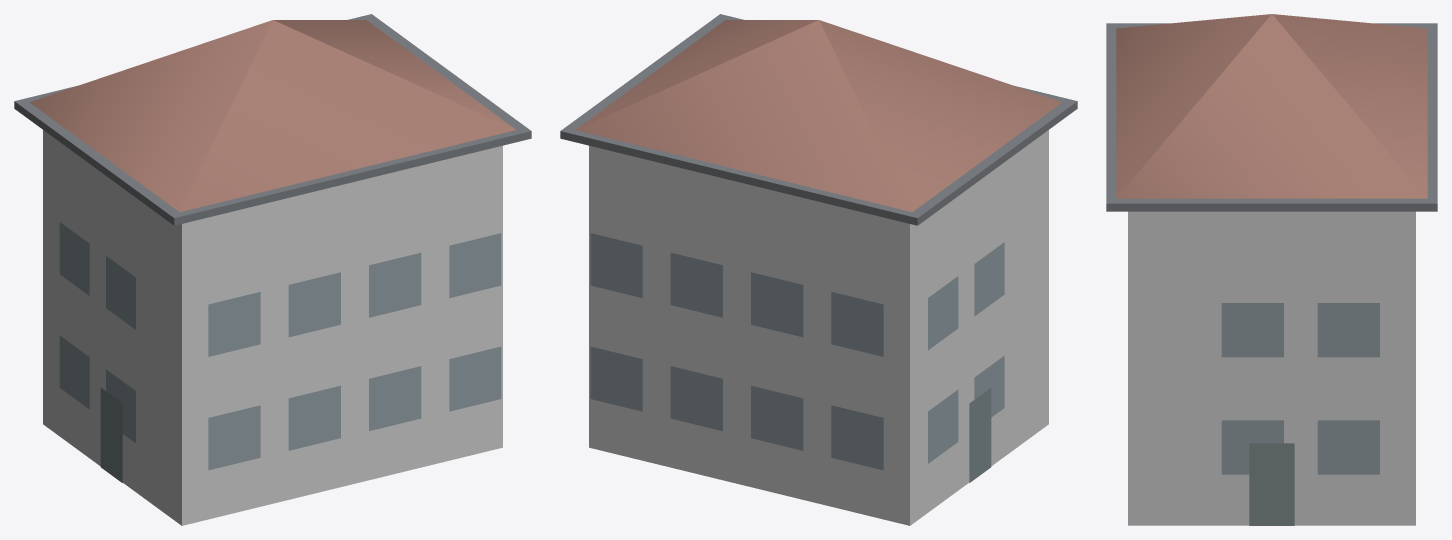
File: home_5.glb
3 renders of one model, left to right at view 1: azimuth 30°, elevation 25°; view 2: azimuth 150°, elevation 25°; view 3: azimuth 270°, elevation 25°, orthographic. The views are drawn at different scales.
Visible parts, largest first — view 1: home_5; view 2: home_5; view 3: home_5.
Boxes of the visible parts, <box> form: home_5: <box>14,14,531,525</box>; home_5: <box>560,14,1077,525</box>; home_5: <box>1106,14,1437,525</box>.
Bounding box in the file's own units: 8.9 × 9.9 × 6.9.
